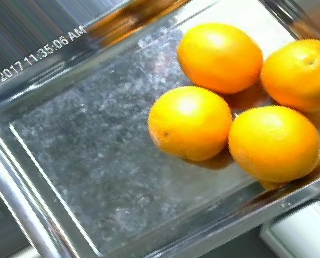Orange: (227, 105, 320, 181), (146, 85, 232, 163), (177, 21, 264, 94), (261, 38, 320, 112)
